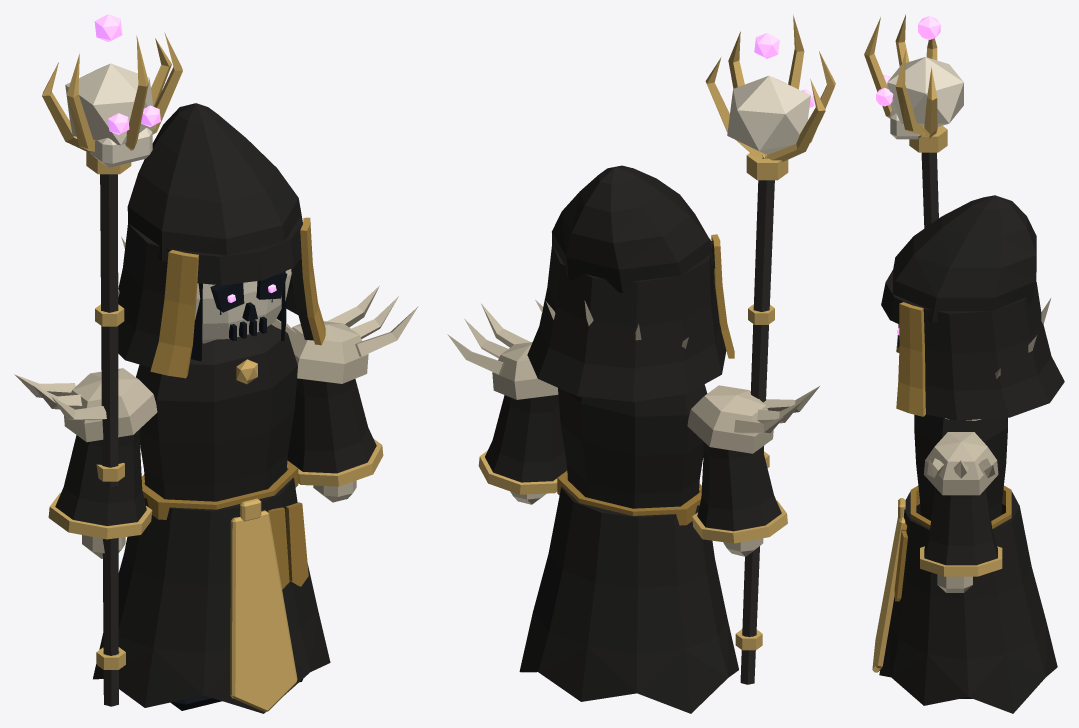
Rendered from Necromancer.fbx.
The picture shows the model from 3 angles, left to right: view 1: azimuth 30°, elevation 25°; view 2: azimuth 150°, elevation 25°; view 3: azimuth 270°, elevation 25°; orthographic projection. The views are drawn at different scales.
Parts seen in each view (by area): view 1: Hood, Robe, Torso, RobeFront, Staff, LeftArm, StaffTrim, HoodLining, RightArm, LeftArmRibs, RightArmRibs, StaffSkull (+8 smaller); view 2: Hood, Robe, Torso, LeftArm, RightArm, Staff, RightArmRibs, StaffTrim, StaffSkull, LeftArmRibs, Sash, RightArmCuff (+2 smaller); view 3: Hood, Robe, LeftArm, Torso, LeftArmRibs, StaffSkull, StaffTrim, HoodLining, RobeFront, Sash, Staff, LeftArmCuff (+2 smaller).
Boxes of the visible parts, x1,y1,x2,y2 form: Hood: (118, 103, 313, 367); Robe: (93, 477, 330, 713); Torso: (136, 324, 297, 501); RobeFront: (230, 510, 297, 711); Staff: (100, 174, 118, 706); LeftArm: (287, 378, 376, 473); StaffTrim: (42, 32, 182, 669); HoodLining: (150, 217, 325, 378); RightArm: (55, 429, 146, 525); LeftArmRibs: (288, 285, 418, 383); RightArmRibs: (14, 368, 157, 442); StaffSkull: (65, 63, 155, 167); Hood: (527, 165, 726, 401); Robe: (519, 486, 738, 713); Torso: (558, 384, 707, 508); LeftArm: (485, 395, 567, 482); RightArm: (697, 441, 781, 531); Staff: (740, 158, 774, 684); RightArmRibs: (687, 385, 819, 453); StaffTrim: (705, 14, 835, 650); StaffSkull: (727, 75, 810, 154); LeftArmRibs: (447, 303, 558, 399); Sash: (557, 471, 701, 525); RightArmCuff: (692, 500, 787, 543); Hood: (881, 195, 1064, 420); Robe: (879, 491, 1057, 713); LeftArm: (924, 488, 997, 565); Torso: (914, 414, 1007, 520); LeftArmRibs: (924, 432, 998, 495); StaffSkull: (887, 57, 963, 139); StaffTrim: (864, 14, 947, 152); HoodLining: (896, 302, 925, 416); RobeFront: (872, 517, 905, 672); Sash: (894, 485, 1011, 601); Staff: (921, 152, 938, 228); LeftArmCuff: (920, 546, 1002, 576).
Size of the model in its own units: 5 by 9.03 by 2.71.
